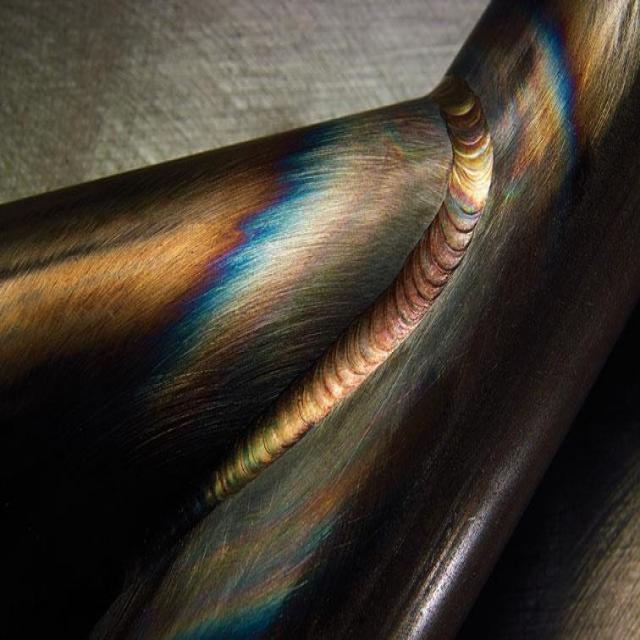Good Welding: (195, 79, 492, 510)
